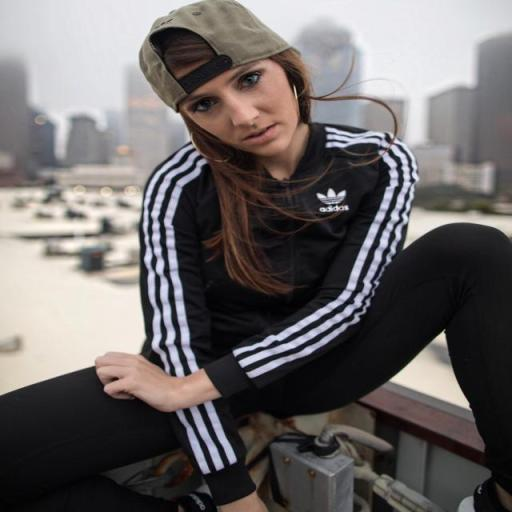Adidas: (313, 186, 352, 215)
